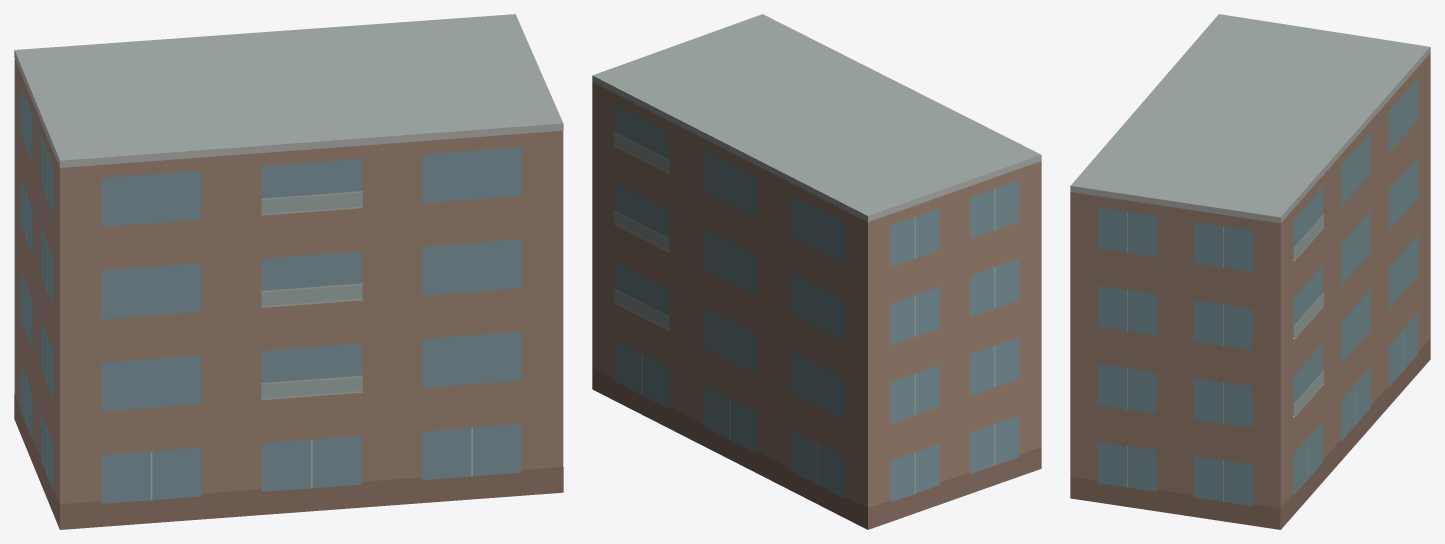
Rendered from survey-upis-32893551.glb.
3 views of the same model, side by side, from view 1: azimuth 30°, elevation 25°; view 2: azimuth 150°, elevation 25°; view 3: azimuth 270°, elevation 25° (orthographic). The views are drawn at different scales.
Visible parts, largest first — view 1: survey-upis-32893551.tmp; view 2: survey-upis-32893551.tmp; view 3: survey-upis-32893551.tmp.
Boxes of the visible parts, x1,y1,x2,y2 form: survey-upis-32893551.tmp: [14, 14, 563, 529]; survey-upis-32893551.tmp: [592, 14, 1041, 529]; survey-upis-32893551.tmp: [1070, 14, 1430, 529].
Size of the model in its own units: 17.45 by 12.5 by 13.06.
